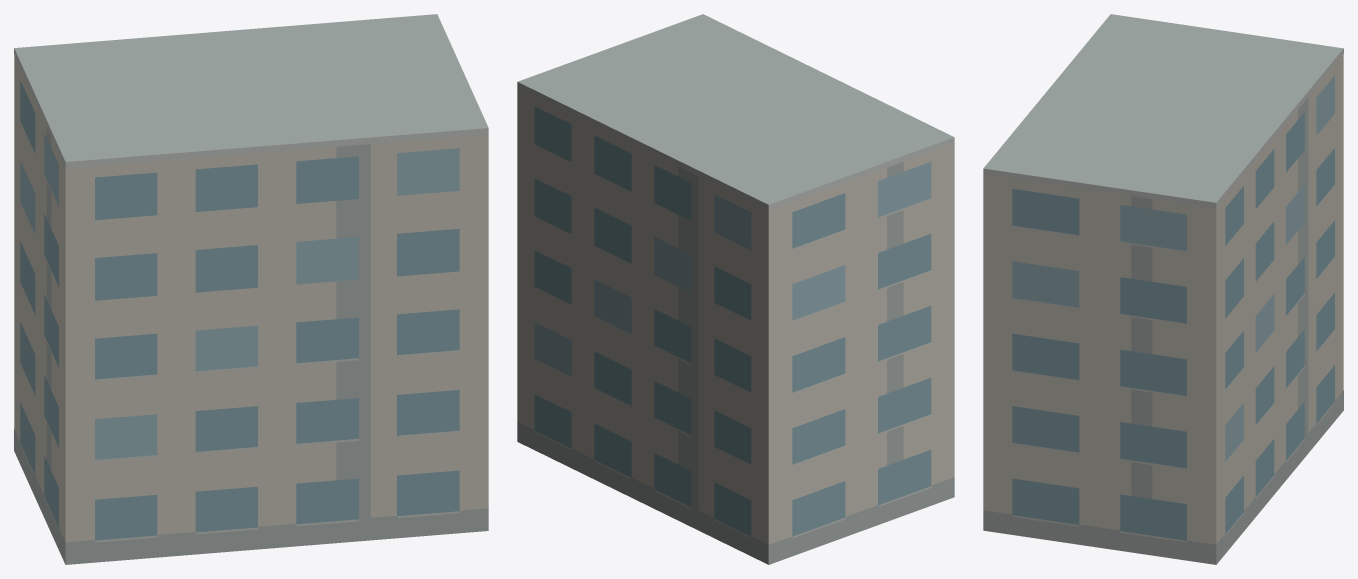
The model's file is residential-eb7c311f-ff82-4793-bfe9-02741e29eae3.glb.
3 views of the same model, side by side, from view 1: azimuth 30°, elevation 25°; view 2: azimuth 150°, elevation 25°; view 3: azimuth 270°, elevation 25° (orthographic). The views are drawn at different scales.
Parts seen in each view (by area): view 1: residential-eb7c311f-ff82-4793-bfe9-02741e29eae3.tmp; view 2: residential-eb7c311f-ff82-4793-bfe9-02741e29eae3.tmp; view 3: residential-eb7c311f-ff82-4793-bfe9-02741e29eae3.tmp.
Part boxes in pixels (box(x1,y1,x2,y2)): residential-eb7c311f-ff82-4793-bfe9-02741e29eae3.tmp: box(14, 14, 488, 564); residential-eb7c311f-ff82-4793-bfe9-02741e29eae3.tmp: box(517, 14, 954, 564); residential-eb7c311f-ff82-4793-bfe9-02741e29eae3.tmp: box(983, 14, 1343, 564).
Bounding box in the file's own units: 17.06 × 15.25 × 13.77.
